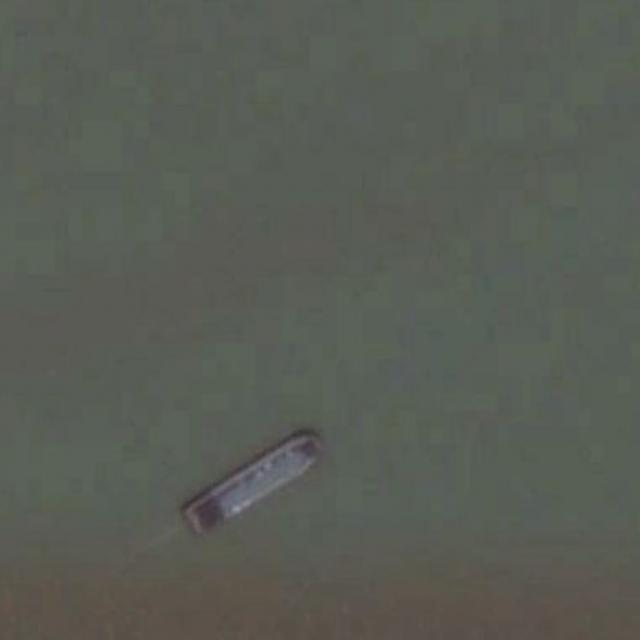ship: (182, 428, 327, 536)
